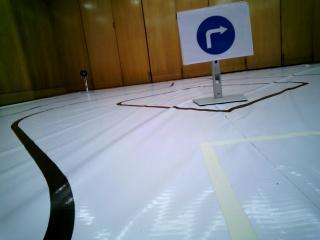right: (180, 11, 253, 58)
